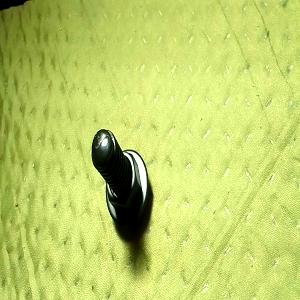parafuso: (91, 128, 150, 227)
